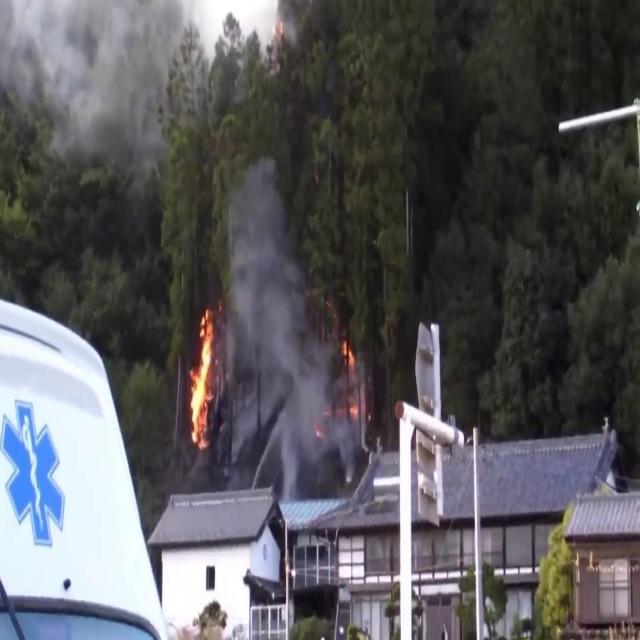Fire: (185, 300, 220, 450)
Smoke: (1, 0, 198, 223), (223, 153, 329, 502)
